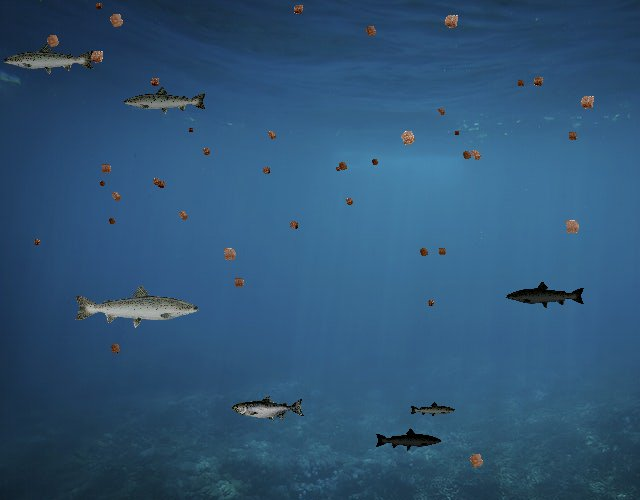Fish: (72, 283, 201, 329), (2, 42, 96, 76), (122, 85, 208, 116), (505, 280, 586, 310), (233, 395, 306, 422), (374, 428, 442, 452), (409, 402, 456, 419)
Pellet: (437, 7, 466, 36), (573, 88, 601, 116), (288, 0, 309, 20), (457, 145, 476, 164), (341, 193, 358, 210), (423, 296, 438, 310), (30, 235, 44, 249)
